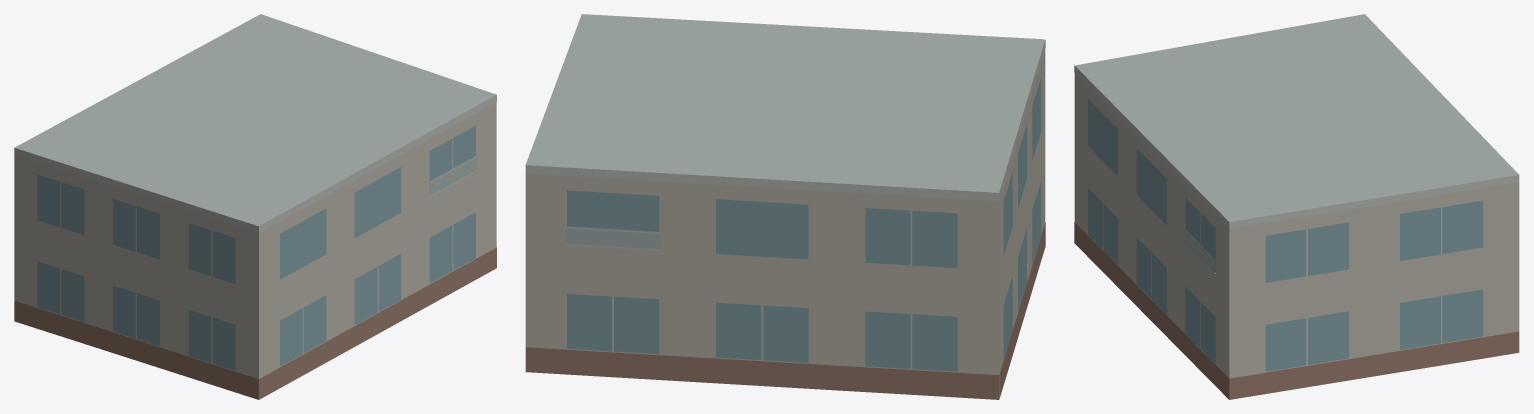
The model's file is survey-upis-32834981.glb.
3 renders of one model, left to right at view 1: azimuth 30°, elevation 25°; view 2: azimuth 150°, elevation 25°; view 3: azimuth 270°, elevation 25°, orthographic. The views are drawn at different scales.
Visible parts, largest first — view 1: survey-upis-32834981.tmp; view 2: survey-upis-32834981.tmp; view 3: survey-upis-32834981.tmp.
Boxes of the visible parts, x1,y1,x2,y2 form: survey-upis-32834981.tmp: (14,14,496,399); survey-upis-32834981.tmp: (525,14,1045,399); survey-upis-32834981.tmp: (1074,14,1519,399).
Bounding box in the file's own units: 15.32 × 6.1 × 13.84.
